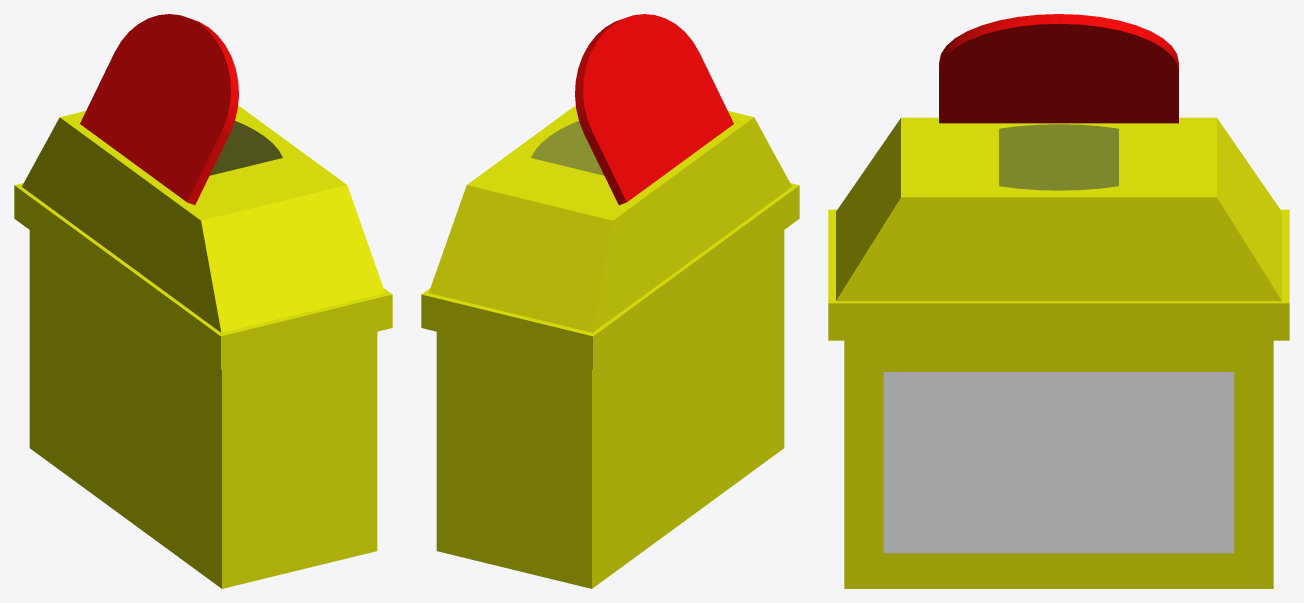
Rendered from naaldcontainerc4d.fbx.
3 views of the same model, side by side, from view 1: azimuth 30°, elevation 25°; view 2: azimuth 150°, elevation 25°; view 3: azimuth 270°, elevation 25° (orthographic). The views are drawn at different scales.
Parts seen in each view (by area): view 1: naaldcontainer, Deksel; view 2: naaldcontainer, Deksel; view 3: naaldcontainer, Deksel.
Boxes of the visible parts, x1,y1,x2,y2 form: naaldcontainer: [14, 105, 392, 588]; Deksel: [80, 14, 238, 204]; naaldcontainer: [421, 105, 799, 588]; Deksel: [575, 14, 733, 204]; naaldcontainer: [828, 117, 1289, 588]; Deksel: [939, 14, 1178, 123].
Bounding box in the file's own units: 8.51 × 22.53 × 17.73.
